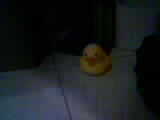duck: (66, 35, 132, 87)
